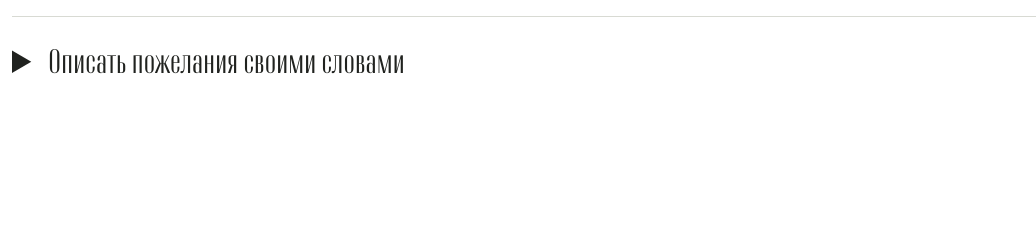
Scenario: catalog natural language goes to executor and keeps returned dialog state
The width and height of the screenshot is (1036, 240).
Later steps or results of the test are not shown.
Click the heading "Описать пожелания своими словами" at (226, 63), box [48, 44, 405, 82]
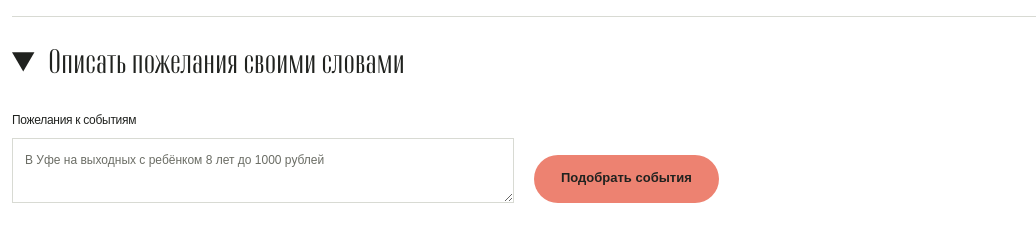
Type "В Уфе с ребёнком" into the text box labelled "Пожелания к событиям" at (263, 170), box [12, 138, 514, 203]
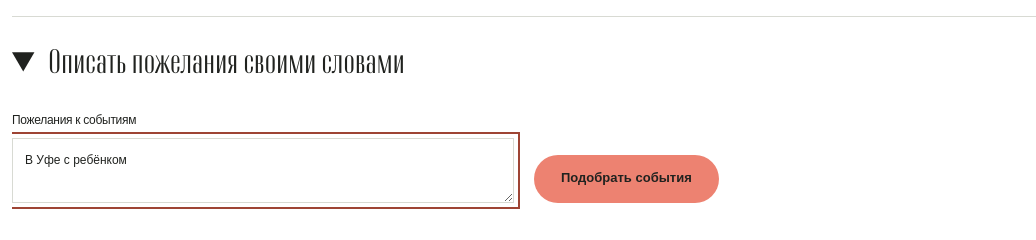
Click the button "Подобрать события" at (626, 179), box [534, 155, 719, 203]
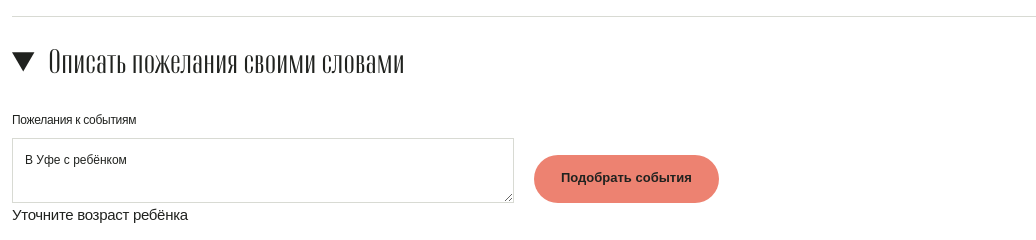
Expected: the text "Уточните возраст ребёнка" is shown, [12, 206, 188, 223]
